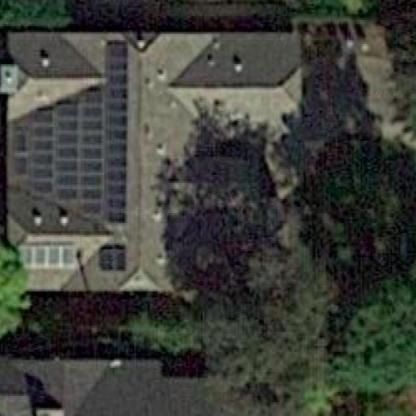solar_panel: (6, 36, 144, 230), (19, 237, 78, 274), (99, 241, 129, 279)
